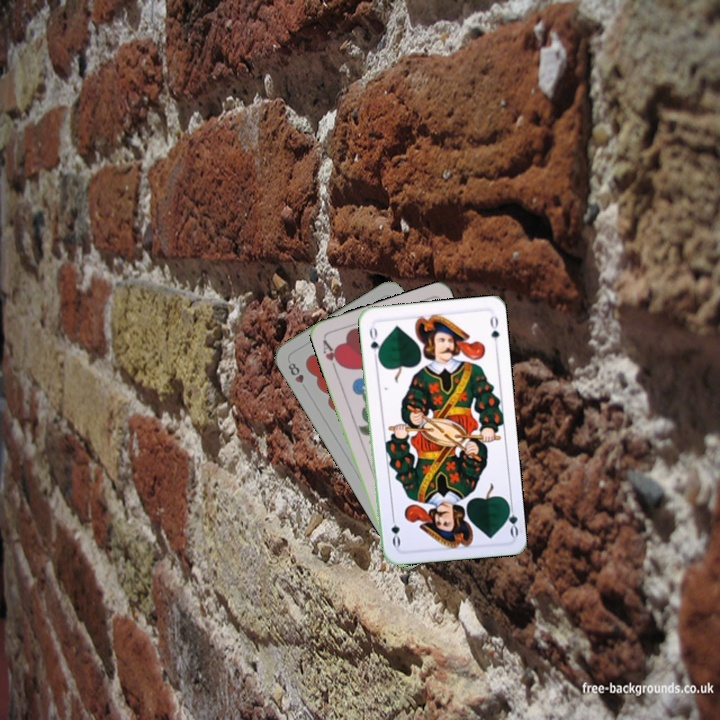GO: (501, 498, 521, 539), (365, 321, 383, 362)
H8: (284, 357, 307, 386)
HA: (319, 335, 345, 374)
